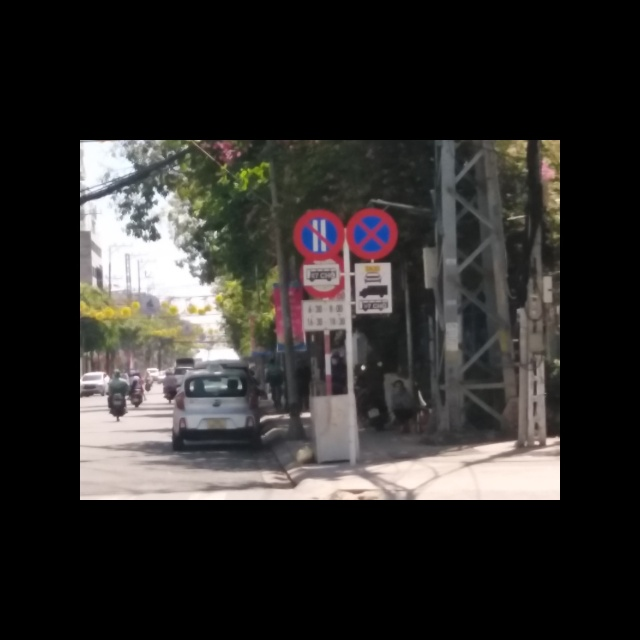Cấm dừng xe và đỗ xe: (345, 209, 397, 260)
Cấm đỗ xe ngày chẵn: (292, 209, 344, 259)
